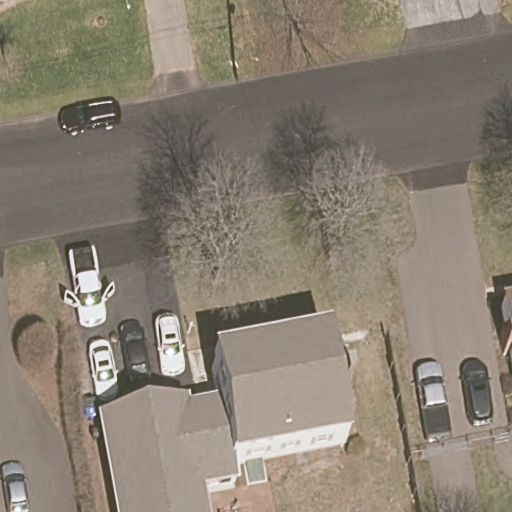DT: (226, 40, 239, 82)
